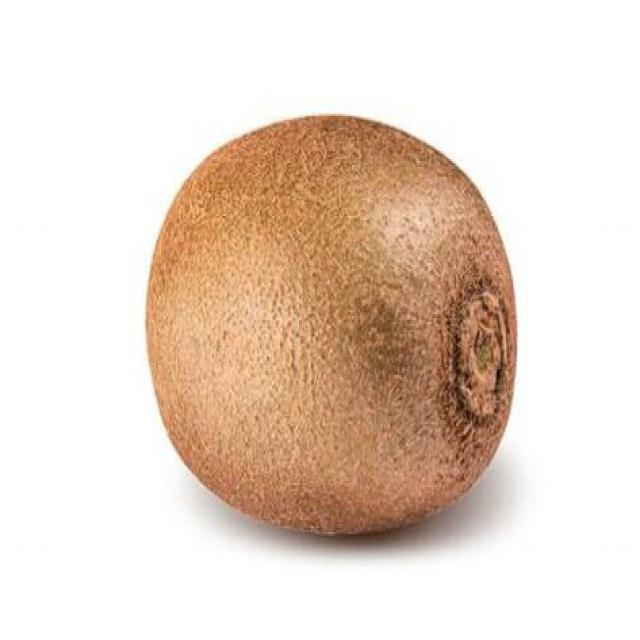kiwi: (112, 101, 530, 529)
